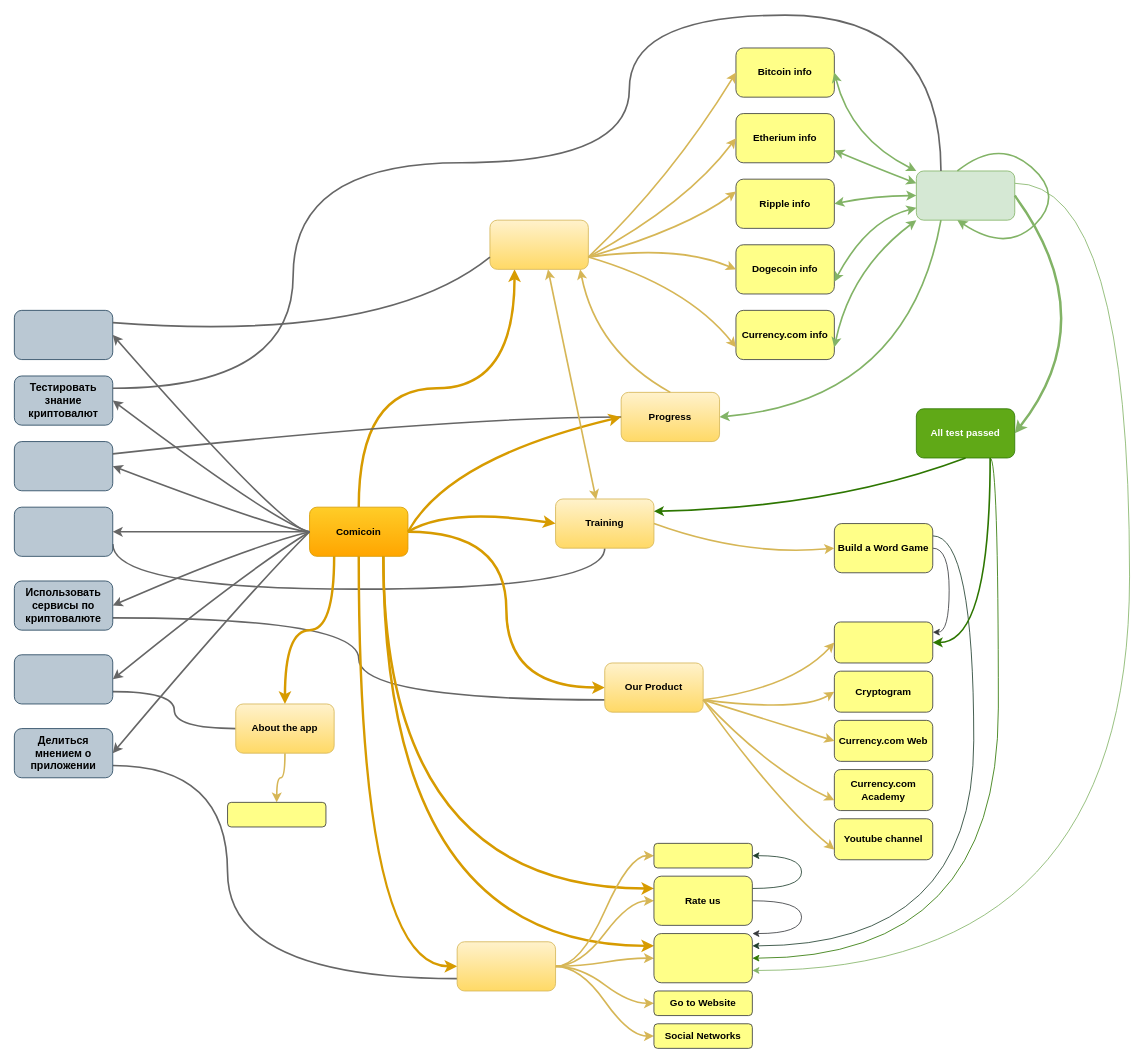
This 1144x1063 diagram has some shape labels left out. The centre of each missing label's shape, as x and y in pixels:
"Authors" goes at (276,814).
"Contact us" goes at (702,855).
"Currency.com Exchange" goes at (883,642).
"Feedback" goes at (506,966).
"Share" goes at (702,958).
"Test" goes at (965,195).
"Universes" goes at (538,244).
"Играть в обучающие игры" goes at (63,531).
"Собирать награды" goes at (63,466).
"Узнать подробнее о приложении" goes at (63,679).
"Читать про криптовалюты" goes at (63,335).
